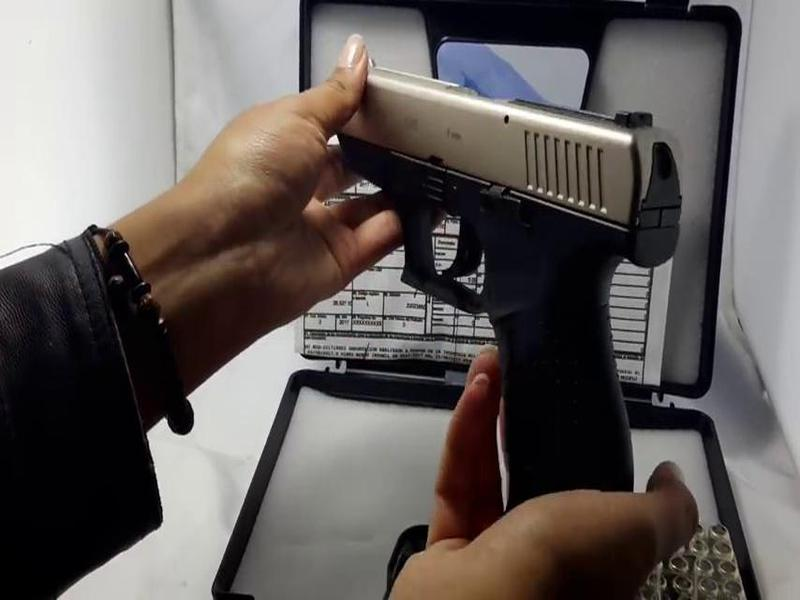Pistola: (325, 31, 715, 582)
